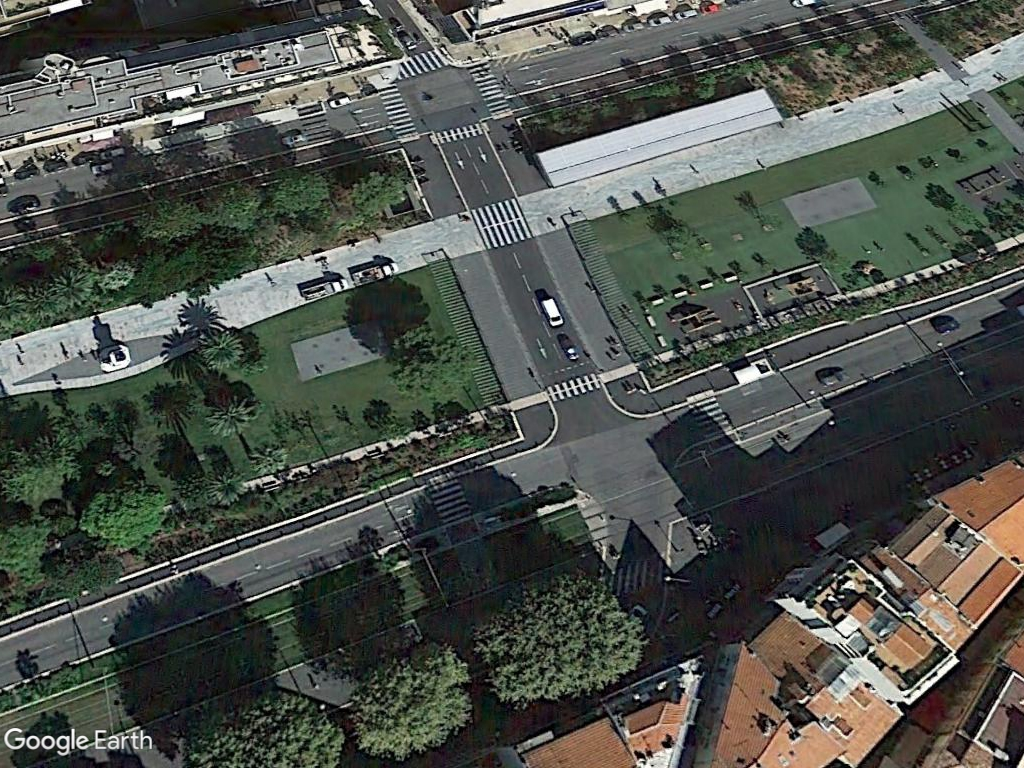van: (537, 294, 566, 330)
